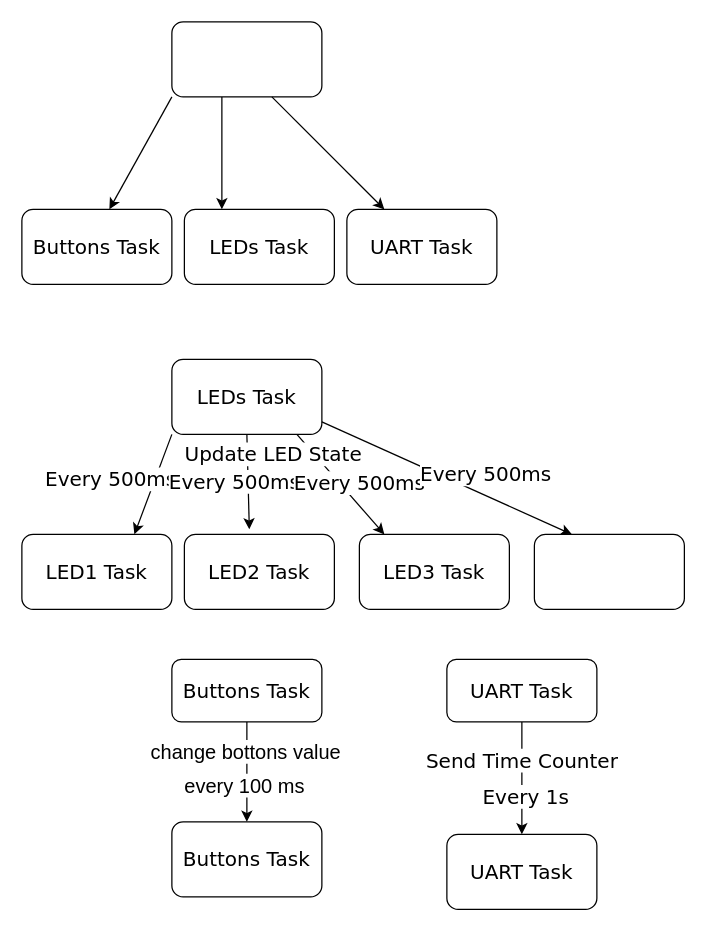
This 706x931 diagram has some shape labels left out. Each missing label, with the centre of its shape:
"LED4 Task" belongs at point (608, 571).
"main" belongs at point (246, 59).
